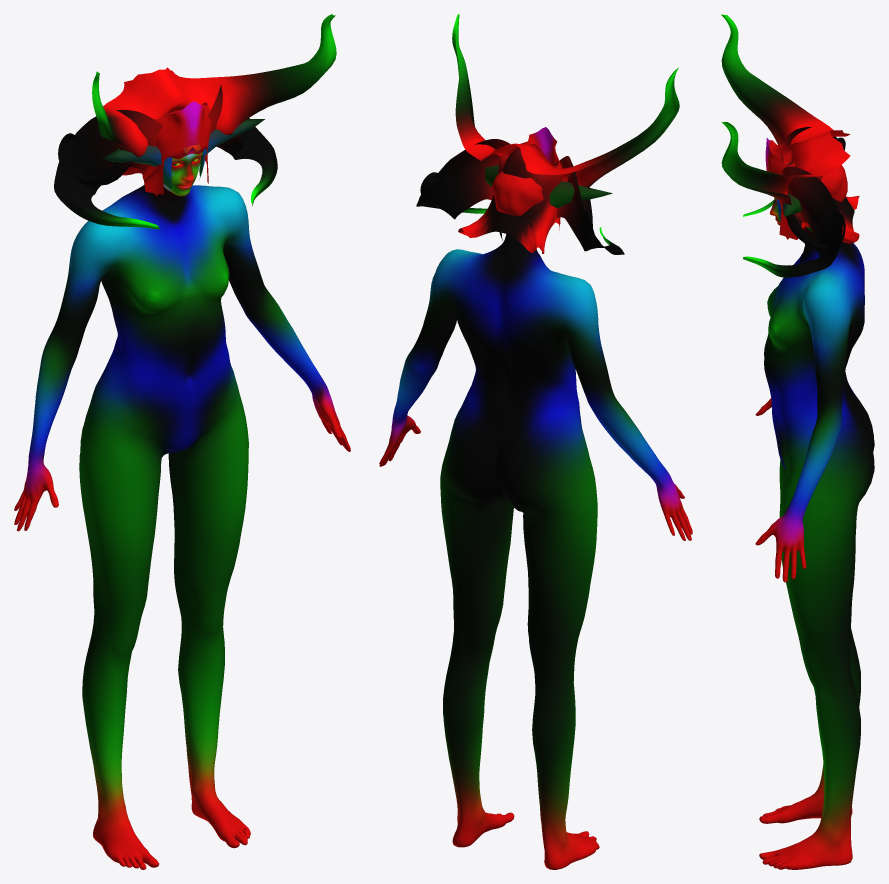
File: FinalBoss.fbx
3 views of the same model, side by side, from view 1: azimuth 30°, elevation 25°; view 2: azimuth 150°, elevation 25°; view 3: azimuth 270°, elevation 25° (orthographic). The views are drawn at different scales.
Parts seen in each view (by area): view 1: GEO_MORGAN_BASE_BODY_blend, GEO_Helmet_male, GEO_MORGAN_Helmet; view 2: GEO_MORGAN_BASE_BODY_blend, GEO_Helmet_male, GEO_MORGAN_Helmet; view 3: GEO_MORGAN_BASE_BODY_blend, GEO_Helmet_male, GEO_MORGAN_Helmet.
Part boxes in pixels (left/top/right/bottom): GEO_MORGAN_BASE_BODY_blend: left=14, top=152, right=350, bottom=869; GEO_Helmet_male: left=54, top=14, right=336, bottom=229; GEO_MORGAN_Helmet: left=102, top=119, right=264, bottom=188; GEO_MORGAN_BASE_BODY_blend: left=379, top=171, right=692, bottom=869; GEO_Helmet_male: left=416, top=14, right=679, bottom=254; GEO_MORGAN_Helmet: left=485, top=165, right=612, bottom=207; GEO_MORGAN_BASE_BODY_blend: left=755, top=162, right=874, bottom=869; GEO_Helmet_male: left=721, top=14, right=859, bottom=277; GEO_MORGAN_Helmet: left=777, top=162, right=811, bottom=231.
Size of the model in its own units: 12315 by 29372 by 5284.
